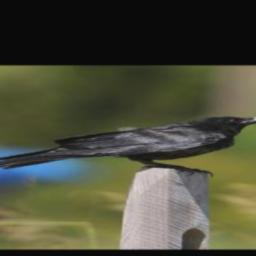Crow: (0, 115, 256, 177)
